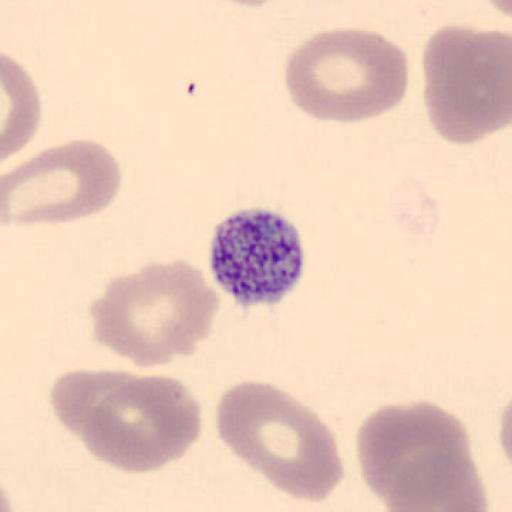Platelet: (206, 205, 310, 308)
RBC: (214, 379, 345, 504), (88, 258, 221, 370), (354, 399, 482, 508), (283, 26, 411, 125), (80, 372, 203, 474), (48, 368, 194, 450), (421, 23, 512, 145), (368, 417, 486, 511), (1, 139, 123, 228), (355, 401, 433, 506), (48, 367, 156, 441), (381, 448, 489, 512), (2, 50, 42, 163), (498, 390, 512, 470), (483, 0, 512, 21)
